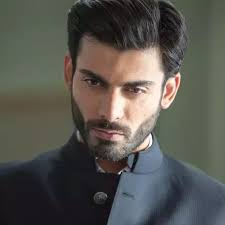Indian_Male: (71, 42, 148, 159)
